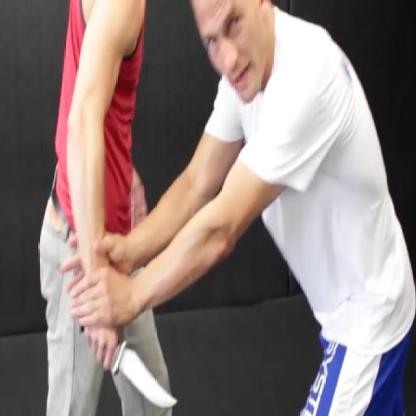knife: (72, 302, 186, 414)
